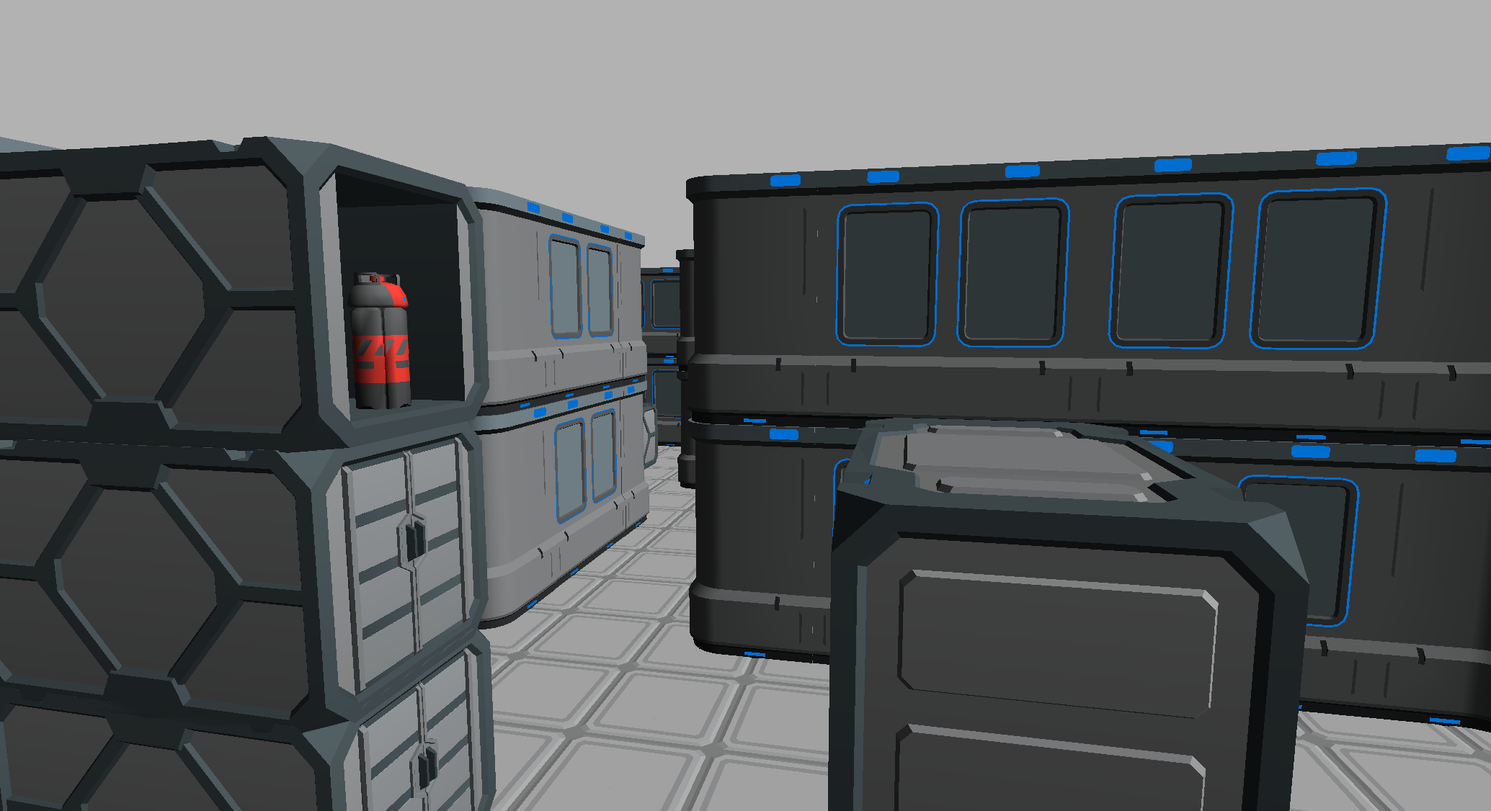red_barrel: (351, 274, 411, 408)
